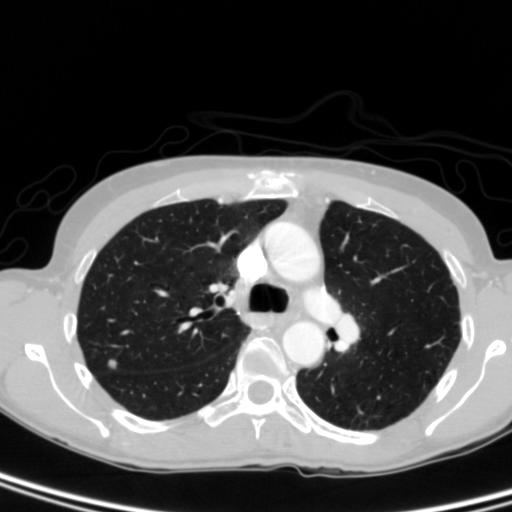nodule: (105, 356, 120, 371)
